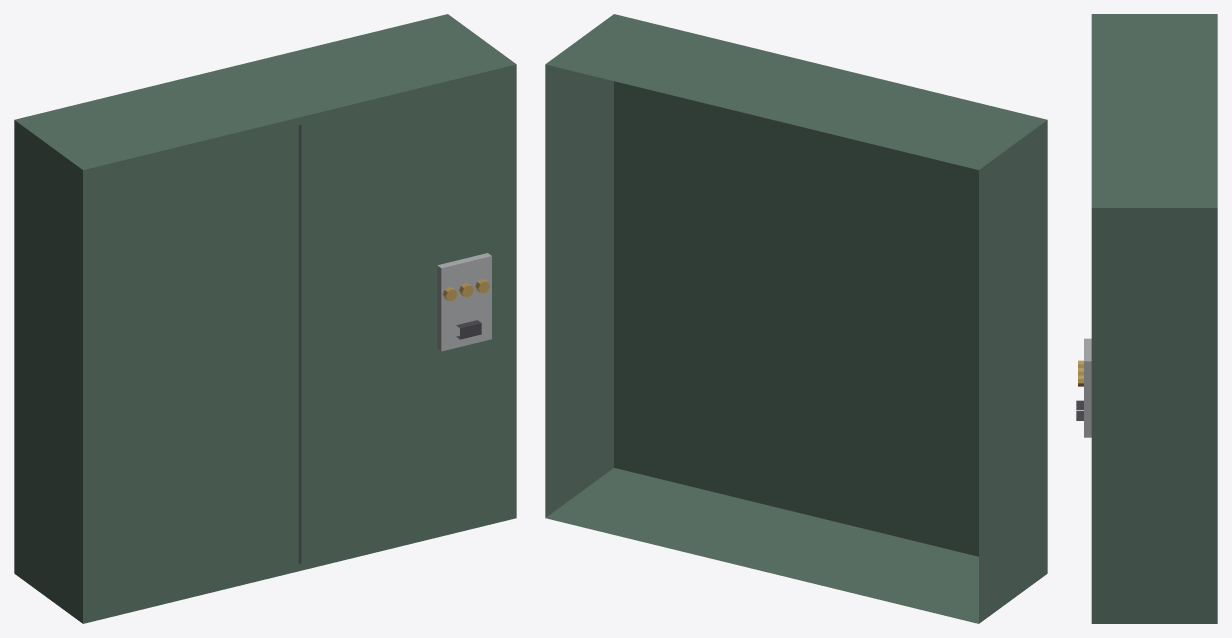
Rendered from key_cabinet.gltf.
The picture shows the model from 3 angles, left to right: view 1: azimuth 30°, elevation 25°; view 2: azimuth 150°, elevation 25°; view 3: azimuth 270°, elevation 25°; orthographic projection. The views are drawn at different scales.
Parts seen in each view (by area): view 1: Mesh; view 2: Mesh; view 3: Mesh.
Boxes of the visible parts, x1,y1,x2,y2 form: Mesh: (14, 14, 516, 623); Mesh: (545, 14, 1047, 623); Mesh: (1076, 14, 1217, 623).
Size of what is drawn, in the model's own units: 1.2 by 1.2 by 0.37.
